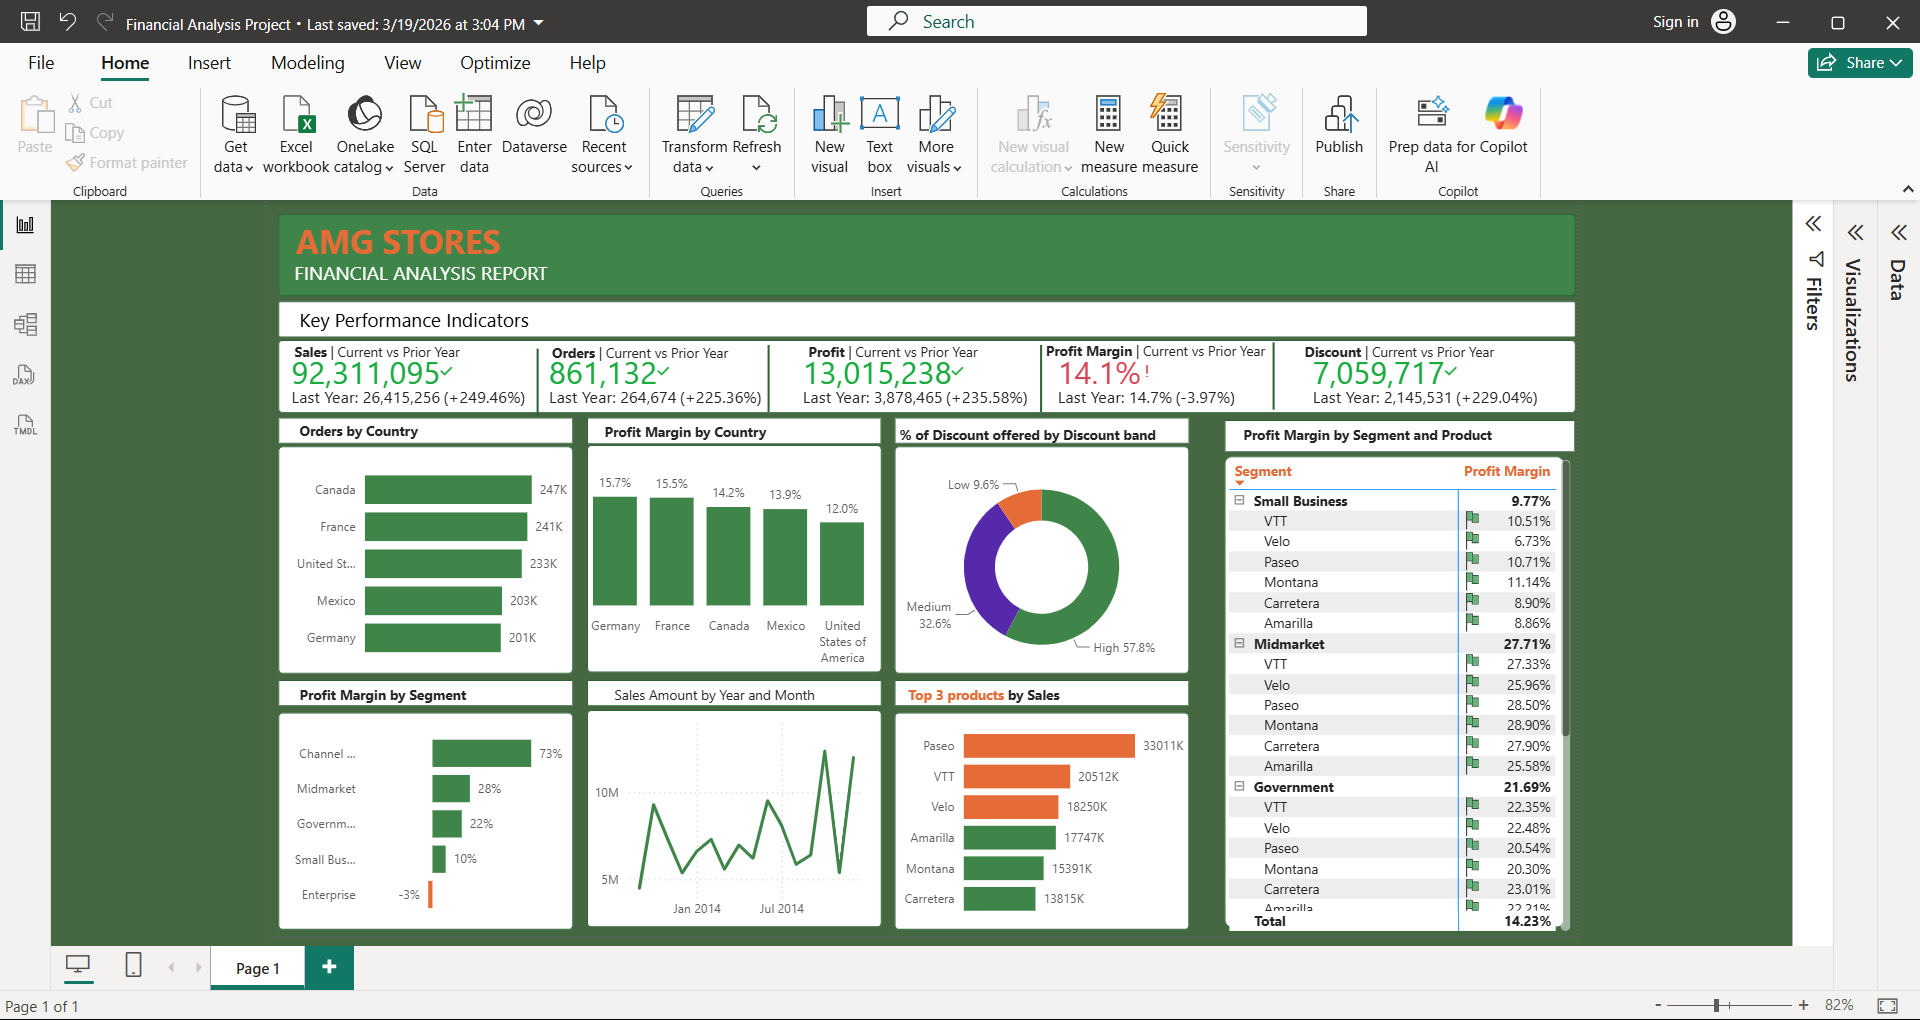

The page's visual inventory and layout, read from the dashboard file:
{"tool":"powerbi","page":{"name":"Page 1","canvas":[1280,720],"ordinal":0},"visuals":[{"type":"shape","box":[937.2,251.1,332.1,461.1],"z":0},{"type":"shape","box":[11,13.5,1269.3,80.7],"z":1000},{"type":"shape","box":[11,99,1269.3,35.5],"z":2000},{"type":"shape","box":[11,137.2,1269.3,71.4],"z":3000},{"type":"shape","box":[11.4,241.2,288.2,222.6],"z":4000},{"type":"shape","box":[11.4,500.9,288.2,212.6],"z":5000},{"type":"shape","box":[312.5,239.7,288.2,222.6],"z":6000},{"type":"shape","box":[312.5,499.4,288.2,212.6],"z":7000},{"type":"shape","box":[613.6,241.2,288.2,222.6],"z":8000},{"type":"shape","box":[613.6,500.9,288.2,212.6],"z":9000},{"type":"shape","box":[11.4,469.5,288.2,25.7],"z":10000},{"type":"shape","box":[312.5,469.5,288.2,25.7],"z":11000},{"type":"shape","box":[613.6,469.5,288.2,25.7],"z":12000},{"type":"shape","box":[11.4,212.6,288.2,25.7],"z":13000},{"type":"shape","box":[312.9,212.7,288.2,26.1],"z":14000},{"type":"shape","box":[613.9,212.8,288.6,25.7],"z":15000},{"type":"shape","box":[937.2,215.4,343.1,31.6],"z":16000},{"type":"textbox","box":[23.3,13.7,500.9,60.4],"z":17000},{"type":"textbox","box":[21.4,54.2,435.2,40],"z":18000},{"type":"textbox","box":[27.1,98.5,328.2,35.7],"z":19000},{"type":"kpi","fields":{"Indicator":["Analysiss.Sales Amount"],"TrendLine":["Date Table.Year"],"Goal":["Analysiss.Sales Amount LY"]},"box":[11,149.2,254.3,57.5],"z":20000},{"type":"textbox","box":[22,134.5,240.1,28.8],"z":21000},{"type":"shape","box":[216.4,145.5,96.6,66],"z":22000},{"type":"kpi","fields":{"TrendLine":["Date Table.Year"],"Indicator":["Analysiss.Orders"],"Goal":["Analysiss.Orders LY"]},"box":[262.5,149.2,251.9,57.5],"z":23000},{"type":"kpi","fields":{"TrendLine":["Date Table.Year"],"Indicator":["Analysiss.Profit"],"Goal":["Analysiss.Profit LY"]},"box":[511.6,149.2,251.9,57.5],"z":24000},{"type":"kpi","fields":{"TrendLine":["Date Table.Year"],"Indicator":["Analysiss.Profit Margin"],"Goal":["Analysiss.Profit Margin LY"]},"box":[760.7,149.2,251.9,57.5],"z":25000},{"type":"kpi","fields":{"TrendLine":["Date Table.Year"],"Indicator":["Analysiss.Discount offered"],"Goal":["Analysiss.Discount Offered LY"]},"box":[1009.8,149.2,270.2,57.5],"z":26000},{"type":"textbox","box":[274.4,135.8,240.1,28.8],"z":27000},{"type":"textbox","box":[524.2,134.5,240.1,28.8],"z":28000},{"type":"textbox","box":[757.5,133.1,240.1,28.8],"z":29000},{"type":"textbox","box":[1010,134.5,240.1,31.6],"z":30000},{"type":"shape","box":[443.2,141.3,96.1,65.9],"z":31000},{"type":"shape","box":[709.4,141.3,96.1,65.9],"z":32000},{"type":"shape","box":[937.2,140,96.1,65.9],"z":33000},{"type":"barChart","fields":{"Category":["TEE Financials.Country"],"Y":["Analysiss.Orders"]},"box":[11,241.5,288.2,220.9],"z":34000},{"type":"textbox","box":[27.4,211.3,288.2,35.7],"z":35000},{"type":"clusteredColumnChart","fields":{"Y":["Analysiss.Profit Margin"],"Category":["TEE Financials.Country"]},"box":[285.4,247,328,216.8],"z":36000},{"type":"textbox","box":[325.2,212.7,288.2,35.7],"z":37000},{"type":"donutChart","fields":{"Category":["TEE Financials.Discount Band"],"Y":["Analysiss.Discount offered"]},"box":[613.4,248.4,288.2,222.3],"z":38000},{"type":"textbox","box":[613.4,215.4,288.2,35.7],"z":39000},{"type":"barChart","fields":{"Category":["TEE Financials.Segment"],"Y":["Analysiss.Profit Margin"]},"box":[11,500.9,288.2,211.3],"z":40000},{"type":"lineChart","fields":{"Category":["Date Table.Date.Variation.Date Hierarchy.Year","Date Table.Date.Variation.Date Hierarchy.Month"],"Y":["Analysiss.Sales Amount"]},"box":[315.6,498.1,285.4,214.1],"z":41000},{"type":"barChart","fields":{"Category":["TEE Financials.Product"],"Y":["Analysiss.Sales Amount"]},"box":[613.4,498.1,288.2,215.4],"z":42000},{"type":"textbox","box":[27.4,469.3,288.2,35.7],"z":43000},{"type":"textbox","box":[334.8,469.3,288.2,35.7],"z":44000},{"type":"textbox","box":[623,469.3,288.2,35.7],"z":45000},{"type":"pivotTable","fields":{"Values":["Analysiss.Profit Margin"],"Rows":["TEE Financials.Segment","TEE Financials.Product"]},"box":[937.2,249.7,343.1,470.7],"z":46000},{"type":"textbox","box":[949.6,215.4,288.2,35.7],"z":47000}]}

Visuals, with their boxes on the page's 1280x720 design canvas (x1, y1, x2, y2). These are canvas units, not pixel positions in the 1920x1020 screenshot, which may show the page scaled, cropped or inside an application window:
shape: 937 251 1269 712
shape: 11 14 1280 94
shape: 11 99 1280 134
shape: 11 137 1280 209
shape: 11 241 300 464
shape: 11 501 300 714
shape: 312 240 601 462
shape: 312 499 601 712
shape: 614 241 902 464
shape: 614 501 902 714
shape: 11 470 300 495
shape: 312 470 601 495
shape: 614 470 902 495
shape: 11 213 300 238
shape: 313 213 601 239
shape: 614 213 902 238
shape: 937 215 1280 247
textbox: 23 14 524 74
textbox: 21 54 457 94
textbox: 27 98 355 134
kpi - Analysiss.Sales Amount x Date Table.Year: 11 149 265 207
textbox: 22 134 262 163
shape: 216 146 313 212
kpi - Date Table.Year x Analysiss.Orders: 262 149 514 207
kpi - Date Table.Year x Analysiss.Profit: 512 149 764 207
kpi - Date Table.Year x Analysiss.Profit Margin: 761 149 1013 207
kpi - Date Table.Year x Analysiss.Discount offered: 1010 149 1280 207
textbox: 274 136 514 165
textbox: 524 134 764 163
textbox: 758 133 998 162
textbox: 1010 134 1250 166
shape: 443 141 539 207
shape: 709 141 806 207
shape: 937 140 1033 206
barChart - TEE Financials.Country x Analysiss.Orders: 11 242 299 462
textbox: 27 211 316 247
clusteredColumnChart - Analysiss.Profit Margin x TEE Financials.Country: 285 247 613 464
textbox: 325 213 613 248
donutChart - TEE Financials.Discount Band x Analysiss.Discount offered: 613 248 902 471
textbox: 613 215 902 251
barChart - TEE Financials.Segment x Analysiss.Profit Margin: 11 501 299 712
lineChart - Date Table.Date.Variation.Date Hierarchy.Year x Date Table.Date.Variation.Date Hierarchy.Month: 316 498 601 712
barChart - TEE Financials.Product x Analysiss.Sales Amount: 613 498 902 714
textbox: 27 469 316 505
textbox: 335 469 623 505
textbox: 623 469 911 505
pivotTable - Analysiss.Profit Margin x TEE Financials.Segment: 937 250 1280 720
textbox: 950 215 1238 251
